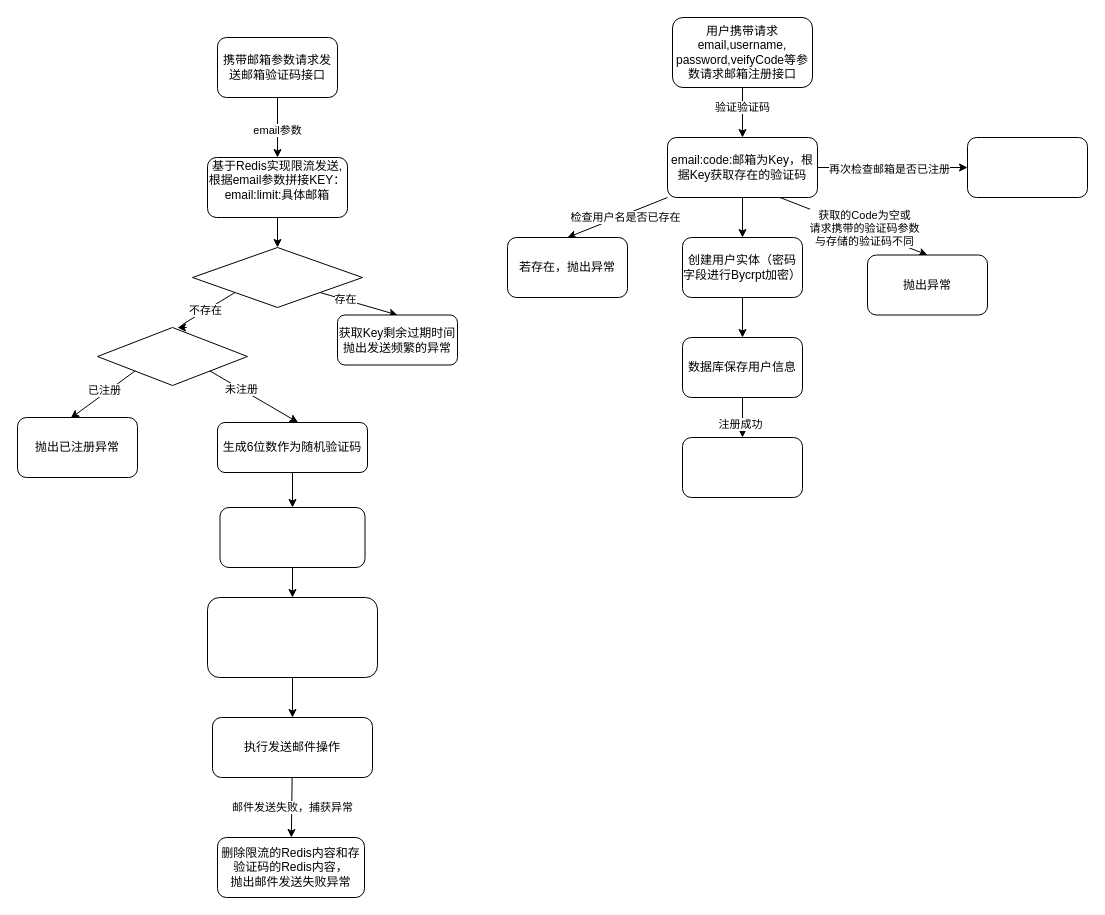
Some shapes in this 1105 by 915 pixel diagram are drawn without their labels. The centre of each missing label's shape, as x and y in pixels:
Redis做发送限流操作， email:limit:具体邮箱为KEY，1为Value，配置1分钟过期时间: point (292, 637)
删除验证码: point (742, 467)
判断Redis中是否存在该KEY: point (277, 277)
将验证码存储到Redis, email:code:邮箱为Key, 验证码为Value,并设置5分钟过期时间: point (292, 537)
已注册，抛出异常: point (1027, 167)
检查该邮箱是否注册: point (172, 356)
